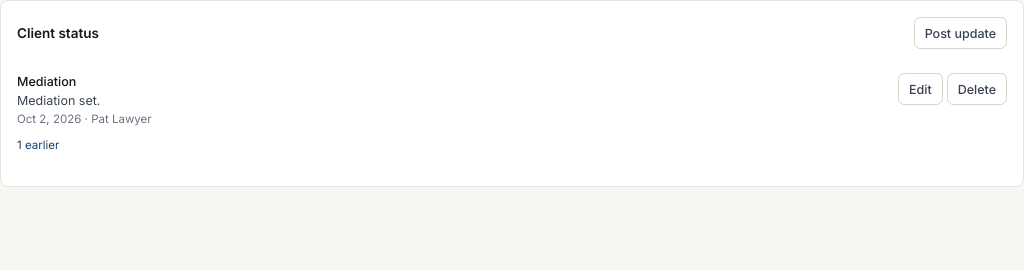
Test: ClientStatusCard › shows the latest update and an N earlier disclosure
Expected: the text "Mediation set." is shown, [17,93,100,108]
Expected: the text "Waiting on records." is not shown
Click the button "1 earlier" at point(38, 145), box [17,137,59,153]
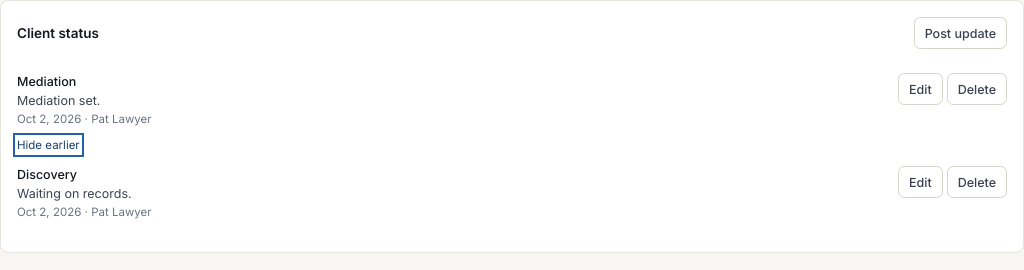
Now the text "Waiting on records." is shown, box [17,186,132,201]
